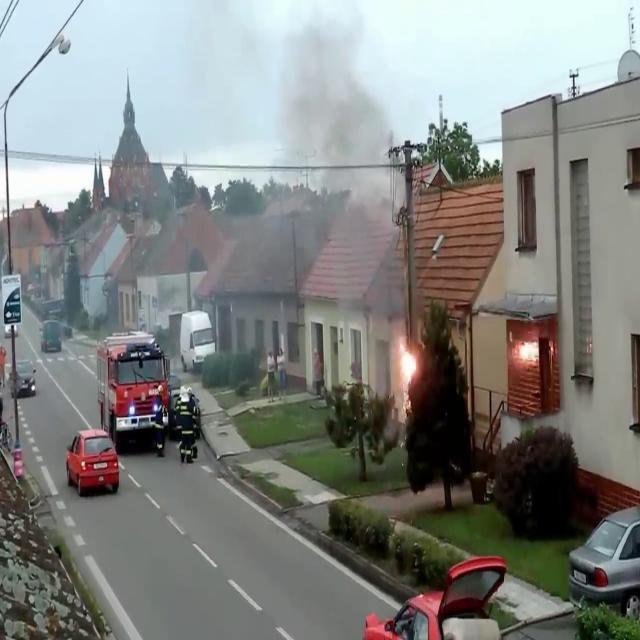Fire: (394, 333, 422, 397)
Smoke: (232, 1, 414, 346)
